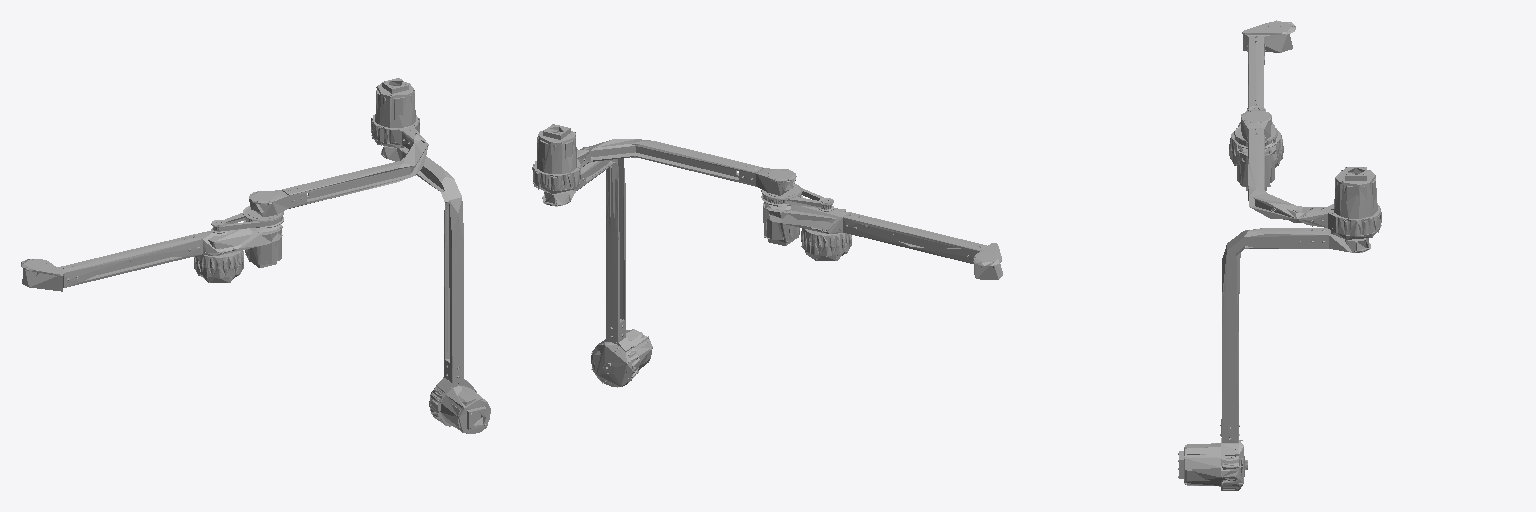
The robot description file, URDF, robot "dyros_avatar_haptic":
<?xml version="1.0" ?>
<robot name="dyros_avatar_haptic">

<mujoco>
      <compiler 
      meshdir="../meshes/" 
      balanceinertia="true" 
      discardvisual="false" />
</mujoco>

<material name="silver">
  <color rgba="0.700 0.700 0.700 1.000"/>
</material>

<!-- <link name="base_link">
</link>

<joint name="base_footprint_joint" type="fixed">
  <origin rpy="0 0 0" xyz="0 0 0"/>
  <parent link="base_link"/>
  <child link="R0v2_1"/>
</joint> -->

<link name="R0v2_1">
  <inertial>
    <origin xyz="0.002224363691248139 -0.00843604486559863 -0.5178558077892146" rpy="0 0 0"/>
    <mass value="96.30275269300822"/>
    <inertia ixx="27.599897" iyy="26.791263" izz="3.404109" ixy="-0.514111" iyz="-1.896007" ixz="-1.207392"/>
  </inertial>
  <visual>
    <origin xyz="0 0 0" rpy="0 0 0"/>
    <geometry>
      <mesh filename="package://dyros_avatar_haptic_description/meshes/R0v2_1_reduced.stl" scale="0.001 0.001 0.001"/>
    </geometry>
    <material name="silver"/>
  </visual>
  <collision>
    <origin xyz="0 0 0" rpy="0 0 0"/>
    <geometry>
      <mesh filename="package://dyros_avatar_haptic_description/meshes/R0v2_1_reduced.stl" scale="0.001 0.001 0.001"/>
    </geometry>
  </collision>
</link>

<link name="R1v2_1">
  <inertial>
    <origin xyz="0.2930669554616949 -0.005125152353986358 -0.4433123956164984" rpy="0 0 0"/>
    <mass value="25.051059193207056"/>
    <inertia ixx="8.496975" iyy="9.282096" izz="0.935306" ixy="0.214887" iyz="-0.556302" ixz="1.918896"/>
  </inertial>
  <visual>
    <origin xyz="-0.06090000000000058 0.004100000000000117 -0.12220000000000049" rpy="0 0 0"/>
    <geometry>
      <mesh filename="package://dyros_avatar_haptic_description/meshes/R1v2_1_reduced.stl" scale="0.001 0.001 0.001"/>
    </geometry>
    <material name="silver"/>
  </visual>
  <collision>
    <origin xyz="-0.06090000000000058 0.004100000000000117 -0.12220000000000049" rpy="0 0 0"/>
    <geometry>
      <mesh filename="package://dyros_avatar_haptic_description/meshes/R1v2_1_reduced.stl" scale="0.001 0.001 0.001"/>
    </geometry>
  </collision>
</link>

<link name="R2v2_1">
  <inertial>
    <origin xyz="0.3578996710059897 -0.042016213116413986 0.0034825253313463533" rpy="0 0 0"/>
    <mass value="3.7157012939377037"/>
    <inertia ixx="0.005214" iyy="0.091851" izz="0.09081" ixy="0.004013" iyz="-0.000174" ixz="0.001692"/>
  </inertial>
  <visual>
    <origin xyz="-0.31944804549570677 -0.05993943059620685 -0.42350000000000093" rpy="0 0 0"/>
    <geometry>
      <mesh filename="package://dyros_avatar_haptic_description/meshes/R2v2_1_reduced.stl" scale="0.001 0.001 0.001"/>
    </geometry>
    <material name="silver"/>
  </visual>
  <collision>
    <origin xyz="-0.31944804549570677 -0.05993943059620685 -0.42350000000000093" rpy="0 0 0"/>
    <geometry>
      <mesh filename="package://dyros_avatar_haptic_description/meshes/R2v2_1_reduced.stl" scale="0.001 0.001 0.001"/>
    </geometry>
  </collision>
</link>

<link name="R3v2_1">
  <inertial>
    <origin xyz="0.3278281939725256 0.12315320854403208 0.021505999574119417" rpy="0 0 0"/>
    <mass value="2.303655764107939"/>
    <inertia ixx="0.018321" iyy="0.049325" izz="0.064687" ixy="-0.023281" iyz="-0.00073" ixz="-0.001037"/>
  </inertial>
  <visual>
    <origin xyz="-0.817437489486188 -0.014822763232013252 -0.47800000000000104" rpy="0 0 0"/>
    <geometry>
      <mesh filename="package://dyros_avatar_haptic_description/meshes/R3v2_1_reduced.stl" scale="0.001 0.001 0.001"/>
    </geometry>
    <material name="silver"/>
  </visual>
  <collision>
    <origin xyz="-0.817437489486188 -0.014822763232013252 -0.47800000000000104" rpy="0 0 0"/>
    <geometry>
      <mesh filename="package://dyros_avatar_haptic_description/meshes/R3v2_1_reduced.stl" scale="0.001 0.001 0.001"/>
    </geometry>
  </collision>
</link>

<link name="R4v2_1">
  <inertial>
    <origin xyz="-0.00023141778643842592 -0.20550475832358545 -0.3380061561135792" rpy="0 0 0"/>
    <mass value="2.438818217989082"/>
    <inertia ixx="0.108462" iyy="0.094361" izz="0.015916" ixy="-1.6e-05" iyz="-0.027303" ixz="-3.2e-05"/>
  </inertial>
  <visual>
    <origin xyz="-1.2276405089712532 -0.19987338550963582 -0.46770000000000167" rpy="0 0 0"/>
    <geometry>
      <mesh filename="package://dyros_avatar_haptic_description/meshes/R4v2_1_reduced.stl" scale="0.001 0.001 0.001"/>
    </geometry>
    <material name="silver"/>
  </visual>
  <collision>
    <origin xyz="-1.2276405089712532 -0.19987338550963582 -0.46770000000000167" rpy="0 0 0"/>
    <geometry>
      <mesh filename="package://dyros_avatar_haptic_description/meshes/R4v2_1_reduced.stl" scale="0.001 0.001 0.001"/>
    </geometry>
  </collision>
</link>

<link name="R5v2_1">
  <inertial>
    <origin xyz="0.2815058277253546 0.14069264650019758 -2.0404045668926882e-05" rpy="0 0 0"/>
    <mass value="2.1494348901715434"/>
    <inertia ixx="0.016779" iyy="0.03329" izz="0.048989" ixy="-0.018161" iyz="2e-06" ixz="4e-06"/>
  </inertial>
  <visual>
    <origin xyz="-1.2274140129815416 0.006826490396390517 0.013799999999998815" rpy="0 0 0"/>
    <geometry>
      <mesh filename="package://dyros_avatar_haptic_description/meshes/R5v2_1.stl" scale="0.001 0.001 0.001"/>
    </geometry>
    <material name="silver"/>
  </visual>
  <collision>
    <origin xyz="-1.2274140129815416 0.006826490396390517 0.013799999999998815" rpy="0 0 0"/>
    <geometry>
      <mesh filename="package://dyros_avatar_haptic_description/meshes/R5v2_1.stl" scale="0.001 0.001 0.001"/>
    </geometry>
  </collision>
</link>

<link name="R6v3_1">
  <inertial>
    <origin xyz="-0.2517999308797463 -0.06386020868518197 0.013531629068643995" rpy="0 0 0"/>
    <mass value="1.824291703230706"/>
    <inertia ixx="0.007576" iyy="0.01806" izz="0.021641" ixy="0.001168" iyz="-0.001045" ixz="0.001795"/>
  </inertial>
  <visual>
    <origin xyz="-1.5356386804036282 -0.19803588875738437 0.01380000000001743" rpy="0 0 0"/>
    <geometry>
      <mesh filename="package://dyros_avatar_haptic_description/meshes/R6v3_1.stl" scale="0.001 0.001 0.001"/>
    </geometry>
    <material name="silver"/>
  </visual>
  <collision>
    <origin xyz="-1.5356386804036282 -0.19803588875738437 0.01380000000001743" rpy="0 0 0"/>
    <geometry>
      <mesh filename="package://dyros_avatar_haptic_description/meshes/R6v3_1.stl" scale="0.001 0.001 0.001"/>
    </geometry>
  </collision>
</link>

<joint name="Rev1" type="prismatic">
  <origin xyz="0.06090000000000058 -0.004100000000000117 0.12220000000000049" rpy="0 0 0"/>
  <parent link="R0v2_1"/>
  <child link="R1v2_1"/>
  <axis xyz="2.6367796834847473e-16 -8.320398604795848e-17 1.0000000000000007"/>
  <limit upper="3.14159" lower="-3.14159" effort="100" velocity="100"/>
</joint>

<joint name="Rev2" type="revolute">
  <origin xyz="0.2585480454957062 0.06403943059620697 0.30130000000000046" rpy="0 0 0"/>
  <parent link="R1v2_1"/>
  <child link="R2v2_1"/>
  <axis xyz="1.1489890949413866e-15 -4.0963920219047034e-16 -1.0"/>
  <limit upper="3.14159" lower="-3.14159" effort="100" velocity="100"/>
</joint>

<joint name="Rev3" type="revolute">
  <origin xyz="0.49798944399048123 -0.0451166673641936 0.054500000000000104" rpy="0 0 0"/>
  <parent link="R2v2_1"/>
  <child link="R3v2_1"/>
  <axis xyz="-1.015837663818999e-16 -3.522754464334303e-16 -1.000000000000001"/>
  <limit upper="3.14159" lower="-3.14159" effort="100" velocity="100"/>
</joint>

<joint name="Rev4" type="revolute">
  <origin xyz="0.4102030194850652 0.18505062227762256 -0.010299999999999365" rpy="0 0 0"/>
  <parent link="R3v2_1"/>
  <child link="R4v2_1"/>
  <axis xyz="2.1372581707861384e-16 -3.967117874549952e-16 -1.000000000000002"/>
  <limit upper="3.14159" lower="-3.14159" effort="100" velocity="100"/>
</joint>

<joint name="Rev5" type="revolute">
  <origin xyz="-0.0002264959897115837 -0.20669987590602634 -0.4815000000000005" rpy="0 0 0"/>
  <parent link="R4v2_1"/>
  <child link="R5v2_1"/>
  <axis xyz="0.001095771599960823 0.9999993996421215 2.3141483428879694e-16"/>
  <limit upper="3.14159" lower="-3.14159" effort="100" velocity="100"/>
</joint>

<joint name="Rev6" type="revolute">
  <origin xyz="0.30822466742208654 0.2048623791537749 -1.8615317620707117e-14" rpy="0 0 0"/>
  <parent link="R5v2_1"/>
  <child link="R6v3_1"/>
  <axis xyz="0.9999993996421225 -0.001095771599961881 3.594176539271707e-16"/>
  <limit upper="3.14159" lower="-3.14159" effort="100" velocity="100"/>
</joint>

</robot>

--- Facts derived from the render (not from the file) ---
Views: 3 orthographic renders of the robot side by side, from view 1: azimuth 30°, elevation 25°; view 2: azimuth 150°, elevation 25°; view 3: azimuth 270°, elevation 25°.
Robot: dyros_avatar_haptic — 7 links, 6 joints (5 revolute, 1 prismatic); root link R0v2_1; default pose: all joints at 0.
Links seen in each view (by area): view 1: R2v2_1, R4v2_1, R3v2_1; view 2: R2v2_1, R3v2_1, R4v2_1; view 3: R4v2_1, R3v2_1, R2v2_1.
Link boxes in pixels (x1,y1,x2,y2): R2v2_1: [21, 206, 283, 291]; R4v2_1: [381, 146, 490, 433]; R3v2_1: [249, 78, 428, 216]; R2v2_1: [761, 184, 1002, 279]; R3v2_1: [532, 124, 796, 195]; R4v2_1: [542, 158, 652, 387]; R4v2_1: [1178, 228, 1370, 490]; R3v2_1: [1241, 110, 1381, 239]; R2v2_1: [1229, 20, 1295, 190].
Size in the robot's own frame: 0.9863 by 0.3791 by 0.6539 metres.
Meshes: 7 distinct files referenced, 3 mesh visuals loaded (3 binary STL); not drawn: 4 (reference not matched to a file when rendering).